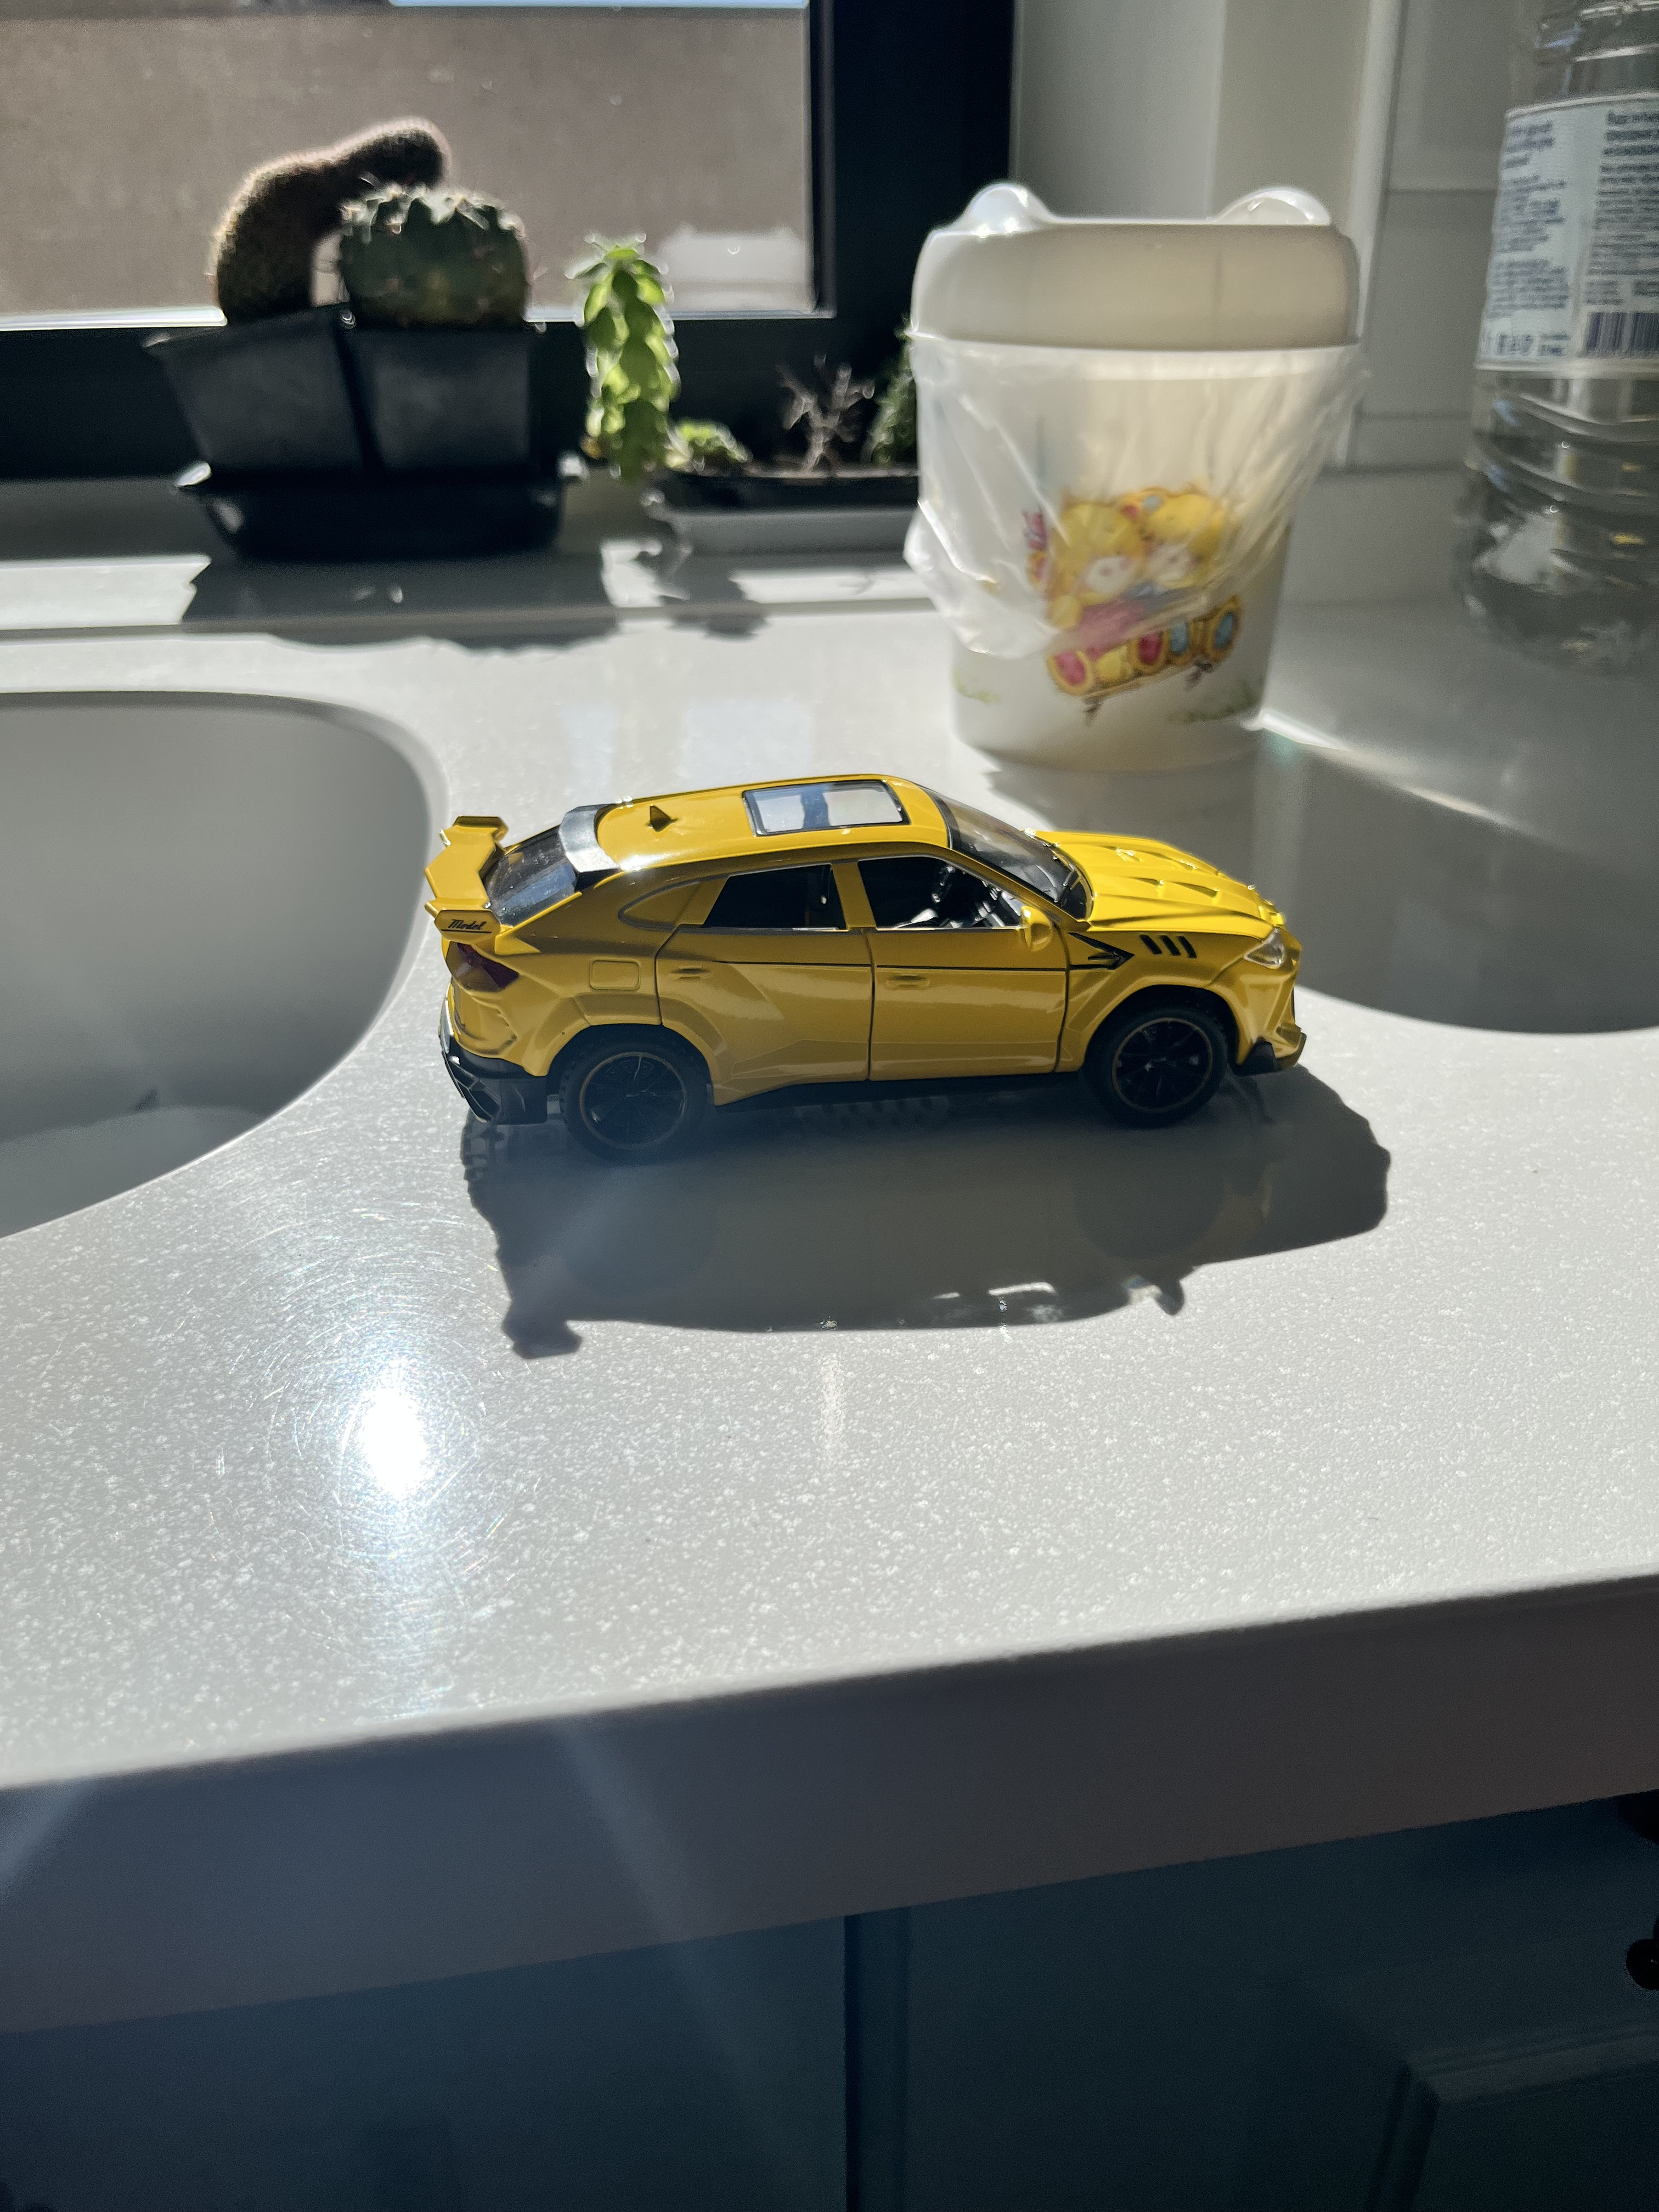lambo: (422, 773, 1307, 1163)
